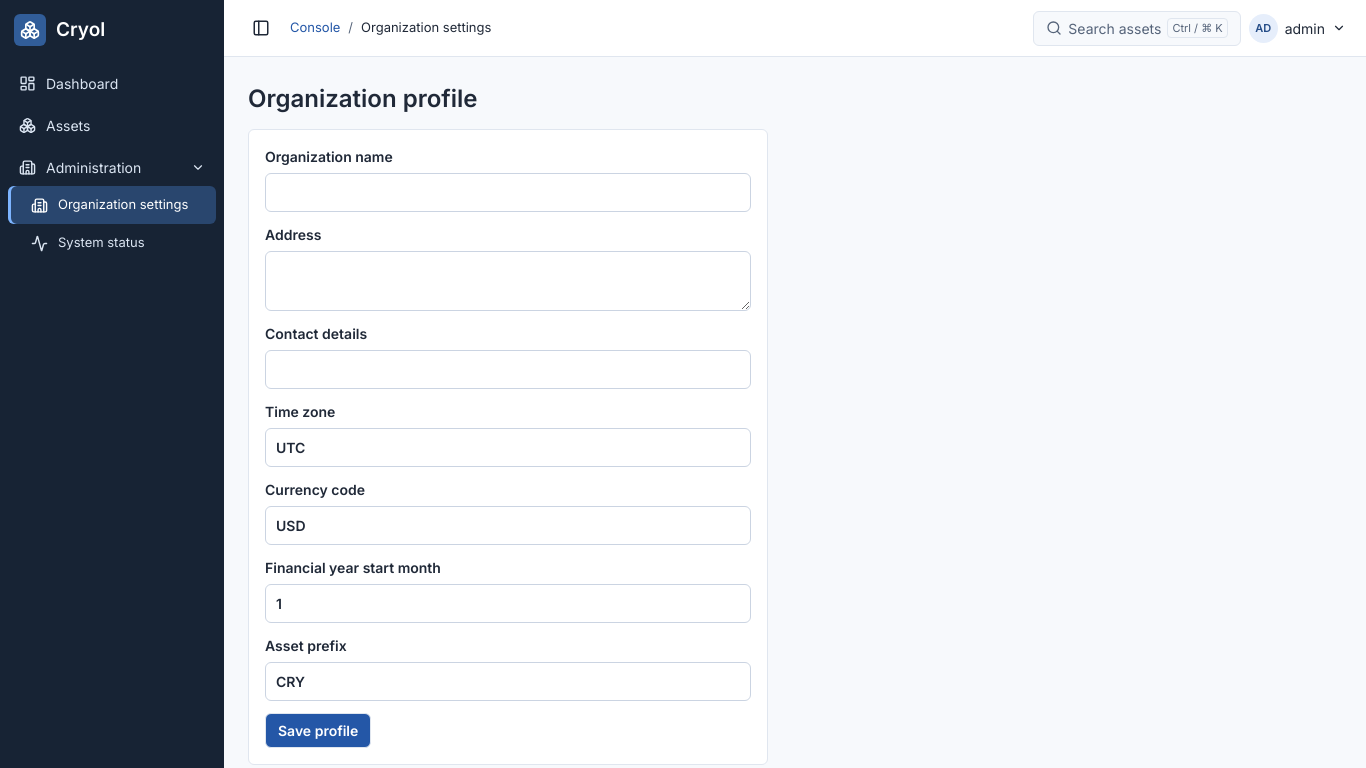
it: takes a newly configured organization to the dashboard
Type "Example workshop" into the field labelled "Organization name".
click(508, 192); type("Example workshop")  # box [265,173,751,212]
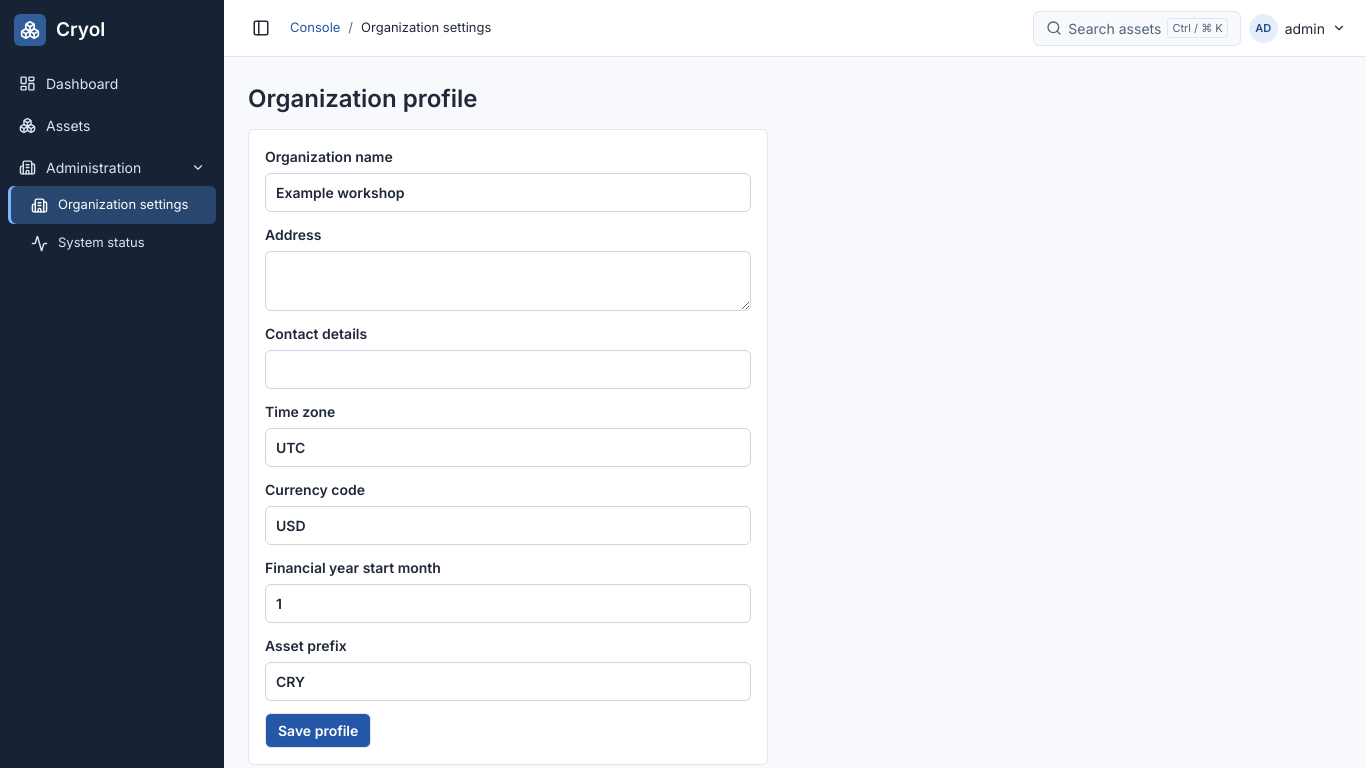
Click the button "Save profile".
click(318, 730)  # box [265,713,371,748]
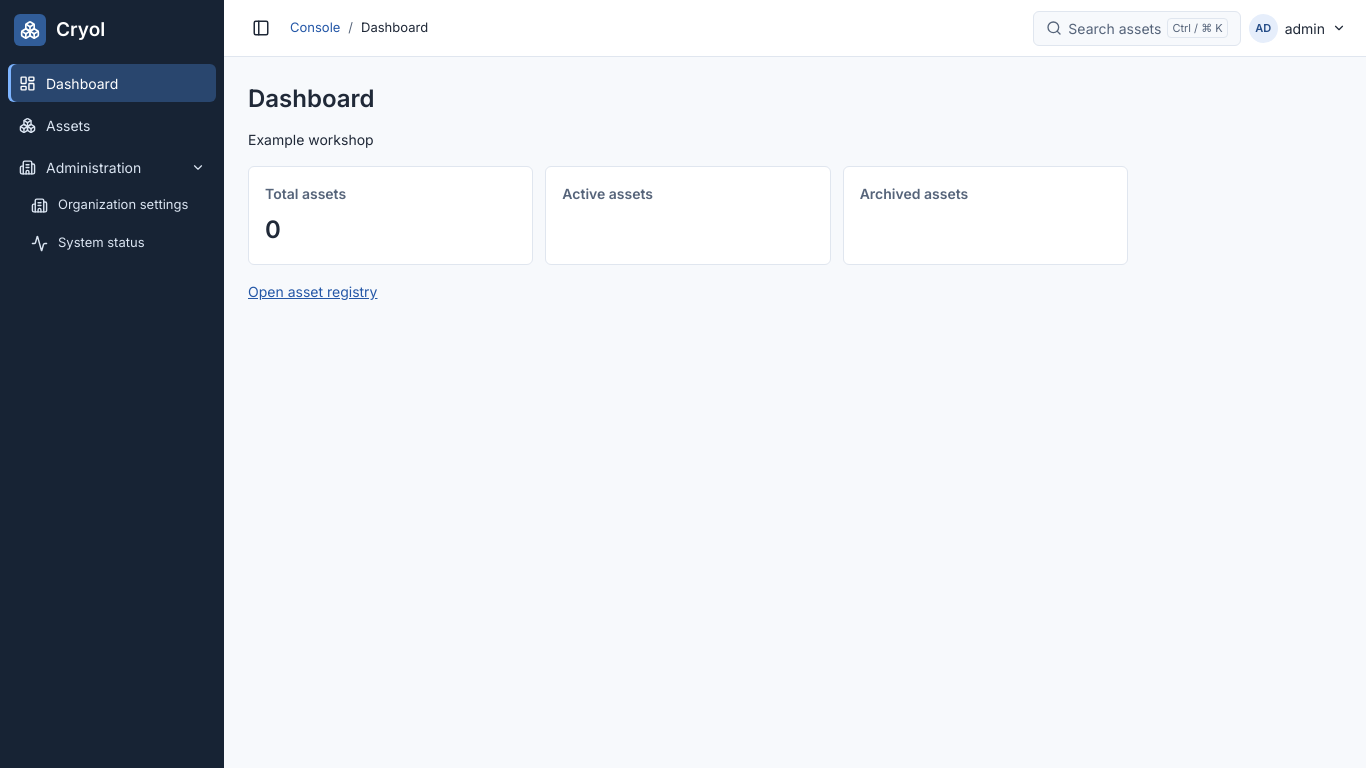
Now the heading "Dashboard" is shown, box [248,84,375,113]
Now the text "Example workshop" is shown, box [248,131,374,148]
